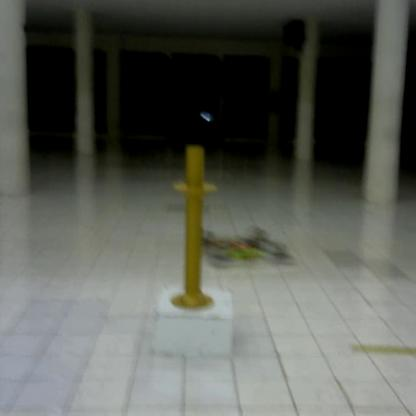pole: (163, 137, 221, 321)
